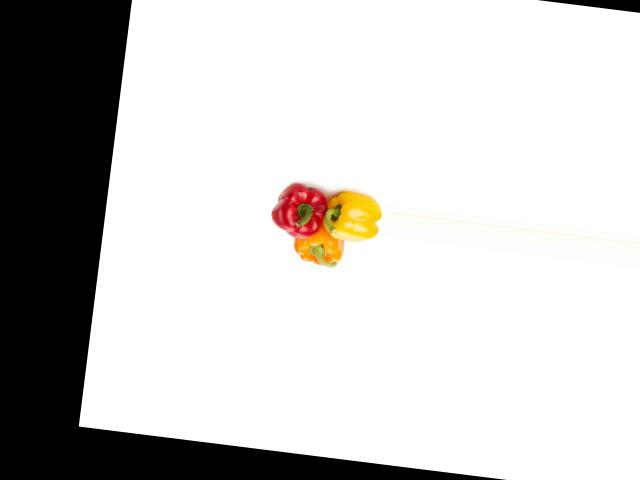bell_pepper: (324, 184, 384, 246)
